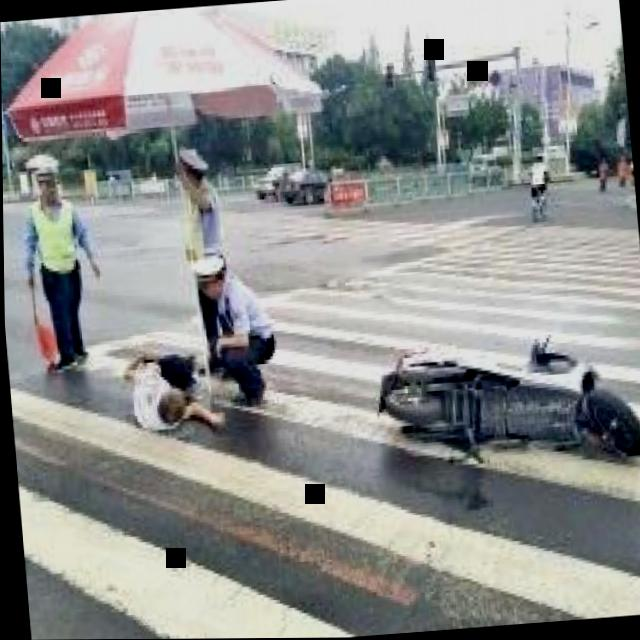Fall-Detected: (110, 326, 223, 448)
